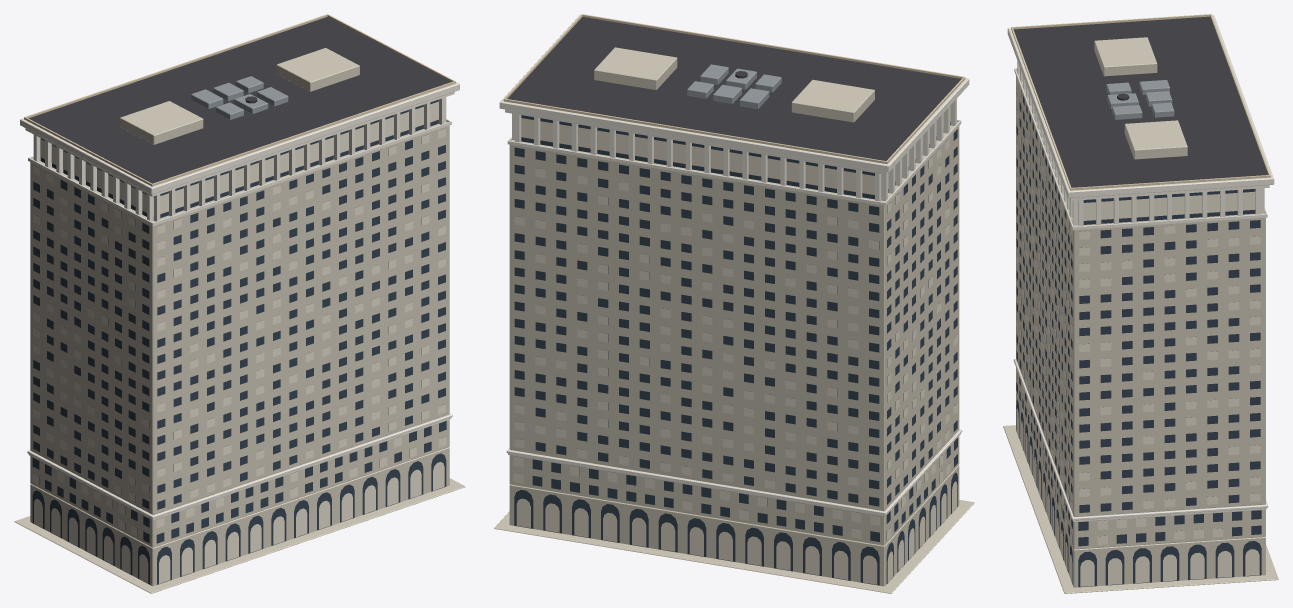
The model's file is 225-bush-street.glb.
3 views of the same model, side by side, from view 1: azimuth 30°, elevation 25°; view 2: azimuth 150°, elevation 25°; view 3: azimuth 270°, elevation 25° (orthographic). The views are drawn at different scales.
Visible parts, largest first — view 1: 225-bush-street_body, 225-bush-street_night_glow; view 2: 225-bush-street_body, 225-bush-street_night_glow; view 3: 225-bush-street_body, 225-bush-street_night_glow.
Boxes of the visible parts, x1,y1,x2,y2 form: 225-bush-street_body: [14, 14, 465, 593]; 225-bush-street_night_glow: [32, 101, 446, 583]; 225-bush-street_body: [494, 14, 974, 593]; 225-bush-street_night_glow: [513, 105, 957, 584]; 225-bush-street_body: [1003, 14, 1278, 593]; 225-bush-street_night_glow: [1016, 77, 1260, 586].
Bounding box in the file's own units: 94.87 × 100 × 60.96.
